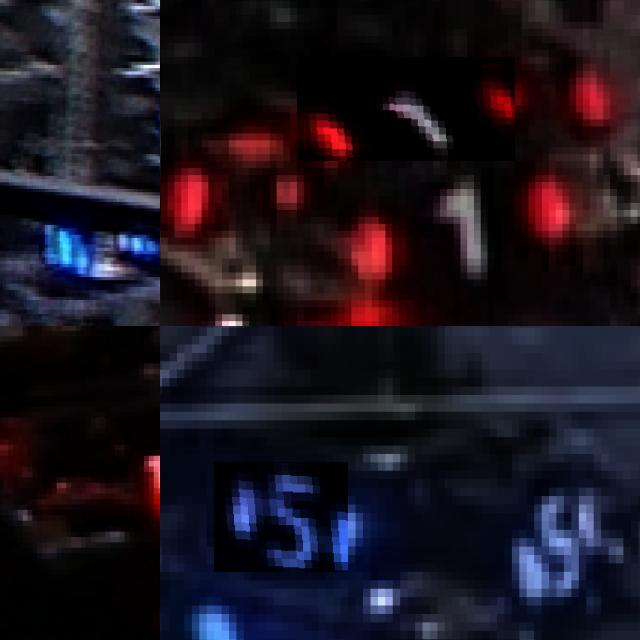B5: (214, 462, 348, 572), (512, 471, 601, 605)
R1: (345, 161, 576, 280), (297, 57, 515, 161), (160, 98, 215, 237)
